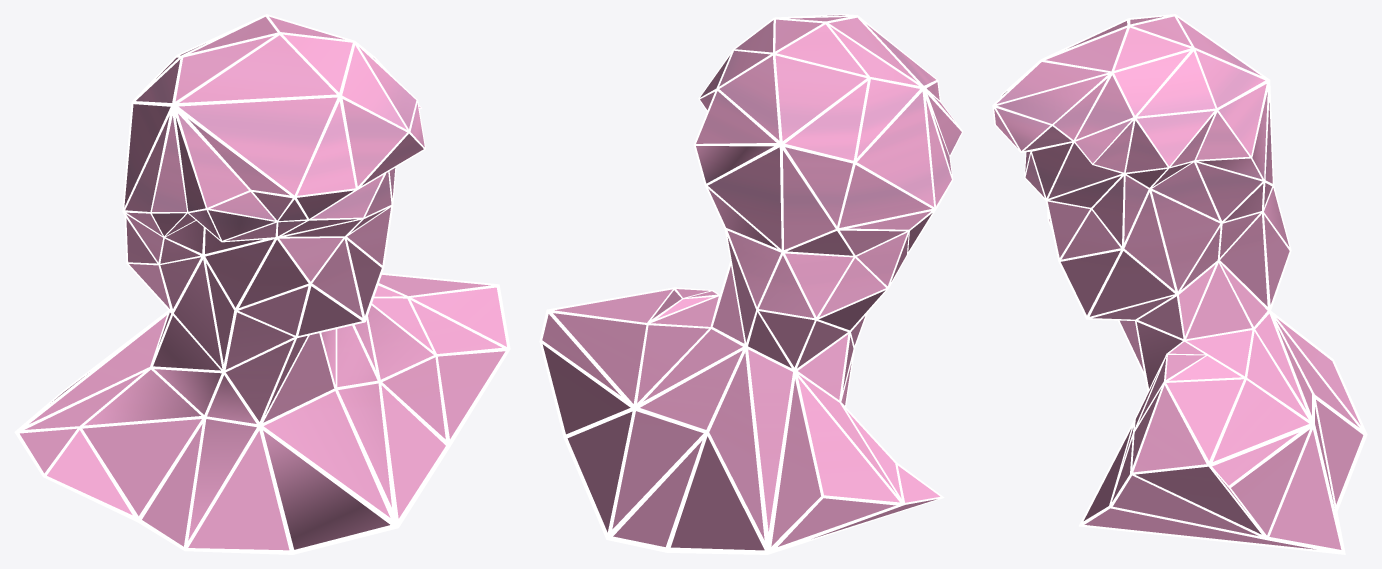
File: David_Retro.glb
3 views of the same model, side by side, from view 1: azimuth 30°, elevation 25°; view 2: azimuth 150°, elevation 25°; view 3: azimuth 270°, elevation 25° (orthographic). The views are drawn at different scales.
Parts seen in each view (by area): view 1: David_Retro; view 2: David_Retro; view 3: David_Retro.
Part boxes in pixels (left/top/right/bottom): David_Retro: left=14, top=14, right=510, bottom=554; David_Retro: left=539, top=14, right=963, bottom=554; David_Retro: left=992, top=14, right=1367, bottom=554.
Bounding box in the file's own units: 3.36 × 3.74 × 2.64.
2 materials, 2 textured.
